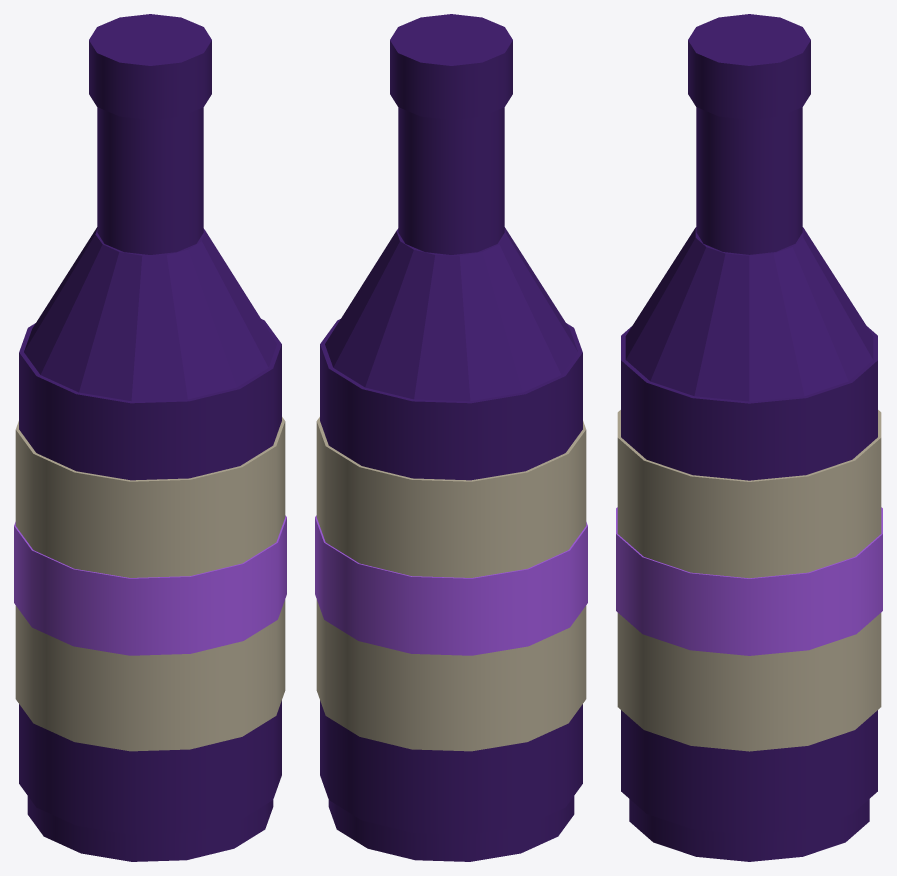
Rendered from drink_bottle_quickload.gltf.
3 views of the same model, side by side, from view 1: azimuth 30°, elevation 25°; view 2: azimuth 150°, elevation 25°; view 3: azimuth 270°, elevation 25° (orthographic).
Visible parts, largest first — view 1: drink_bottle_quickload; view 2: drink_bottle_quickload; view 3: drink_bottle_quickload.
Boxes of the visible parts, left/top/right/bottom form: drink_bottle_quickload: left=14, top=14, right=286, bottom=861; drink_bottle_quickload: left=315, top=14, right=587, bottom=861; drink_bottle_quickload: left=616, top=14, right=882, bottom=861.
Bounding box in the file's own units: 0.0644 × 0.2 × 0.0628.
